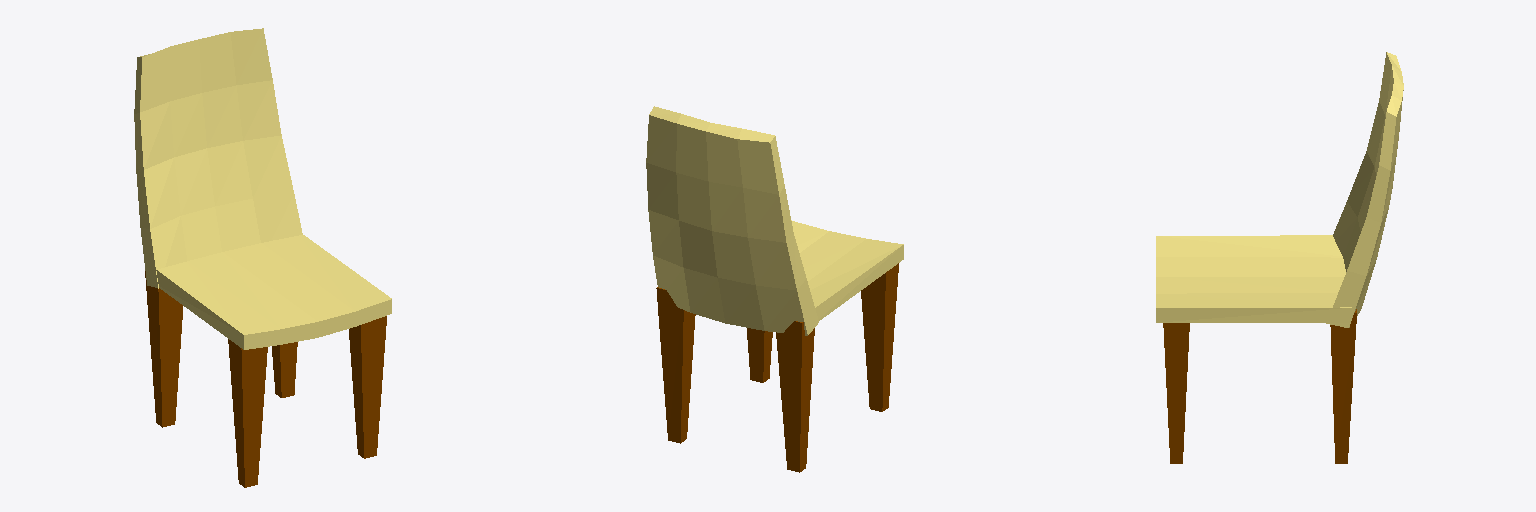
The model's file is Chair.obj.
3 renders of one model, left to right at view 1: azimuth 30°, elevation 25°; view 2: azimuth 150°, elevation 25°; view 3: azimuth 270°, elevation 25°, orthographic.
Parts seen in each view (by area): view 1: Chair; view 2: Chair; view 3: Chair.
Part boxes in pixels (left/top/right/bottom): Chair: left=134, top=28, right=391, bottom=487; Chair: left=646, top=106, right=903, bottom=472; Chair: left=1156, top=52, right=1403, bottom=463.
Bounding box in the file's own units: 1.98 × 4.48 × 2.86.